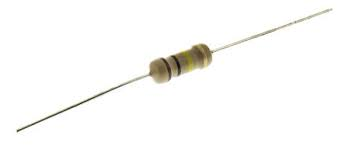resistor: (130, 29, 237, 116)
